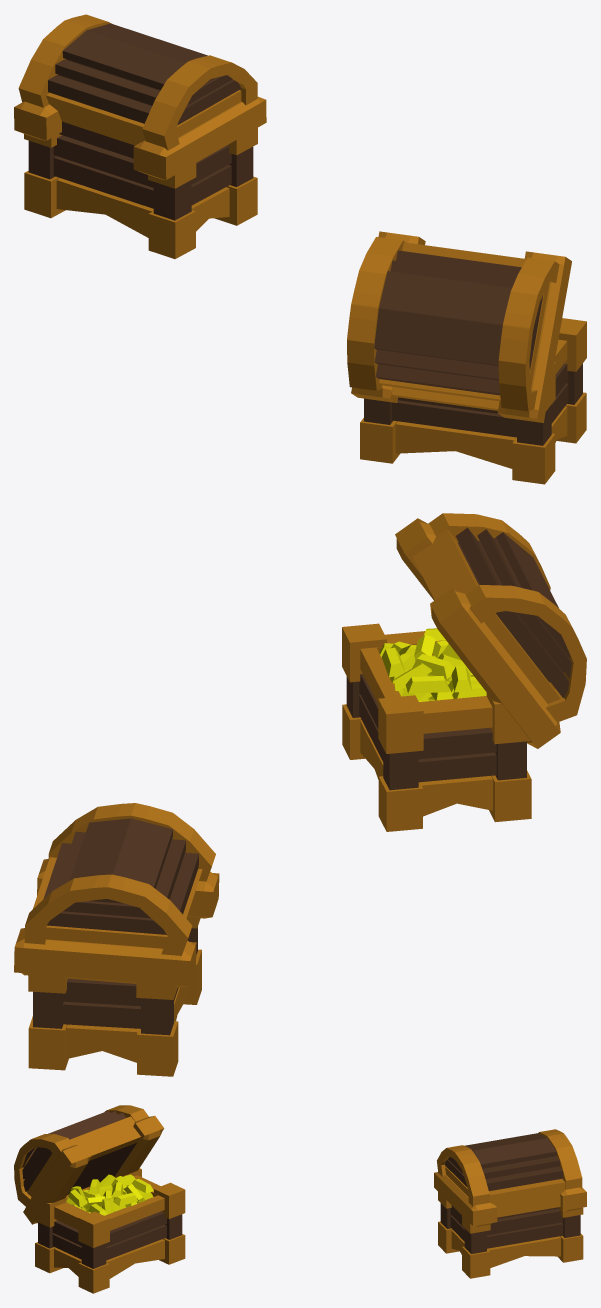
File: Schatz Verteidigen.fbx
The picture shows the model from 3 angles, top to bottom: view 1: azimuth 30°, elevation 25°; view 2: azimuth 150°, elevation 25°; view 3: azimuth 270°, elevation 25°; orthographic projection. The views are drawn at different scales.
Visible parts, largest first — view 1: Cylinder.000, Cylinder.002; view 2: Cylinder.000, Cylinder.002; view 3: Cylinder.000, Cylinder.002.
Boxes of the visible parts, bbox=[...] form: Cylinder.000: bbox=[347, 231, 586, 484]; Cylinder.002: bbox=[14, 14, 266, 258]; Cylinder.000: bbox=[342, 513, 586, 831]; Cylinder.002: bbox=[14, 803, 219, 1076]; Cylinder.000: bbox=[14, 1105, 185, 1293]; Cylinder.002: bbox=[434, 1129, 586, 1278].
Size of the model in its own units: 82.97 by 70.16 by 277.
